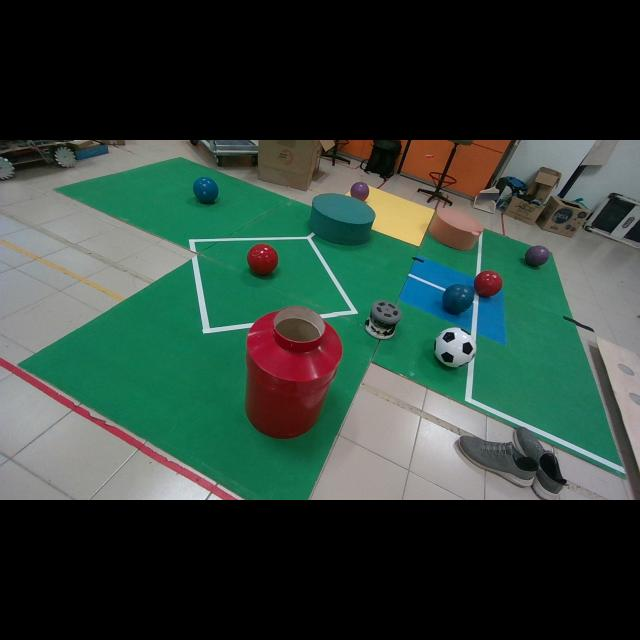B: (442, 284, 474, 315), (194, 178, 219, 203), (525, 245, 550, 267), (351, 181, 369, 201)
R: (248, 244, 279, 276), (474, 270, 502, 297)
